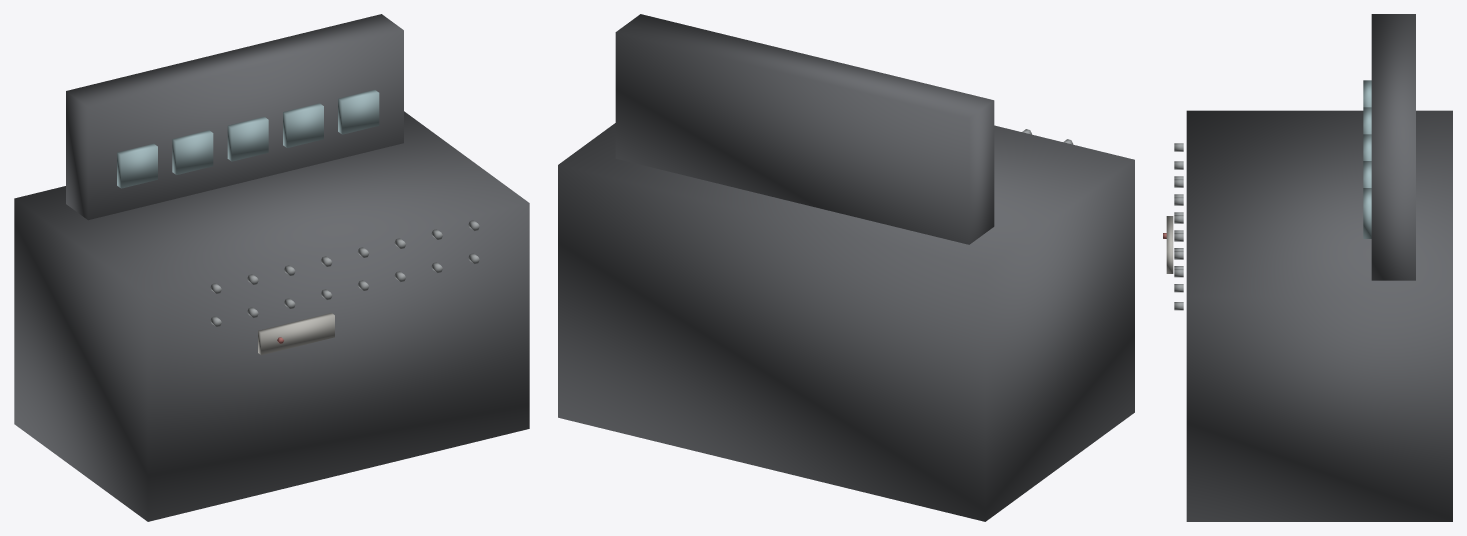
The model's file is pa_rack__deep.glb.
3 renders of one model, left to right at view 1: azimuth 30°, elevation 25°; view 2: azimuth 150°, elevation 25°; view 3: azimuth 270°, elevation 25°, orthographic. The views are drawn at different scales.
Parts seen in each view (by area): view 1: world; view 2: world; view 3: world.
Part boxes in pixels (x1,y1,x2,y2): world: (14,14,529,521); world: (558,14,1134,521); world: (1163,14,1452,521).
Bounding box in the file's own units: 1.45 × 1.23 × 0.9559.
